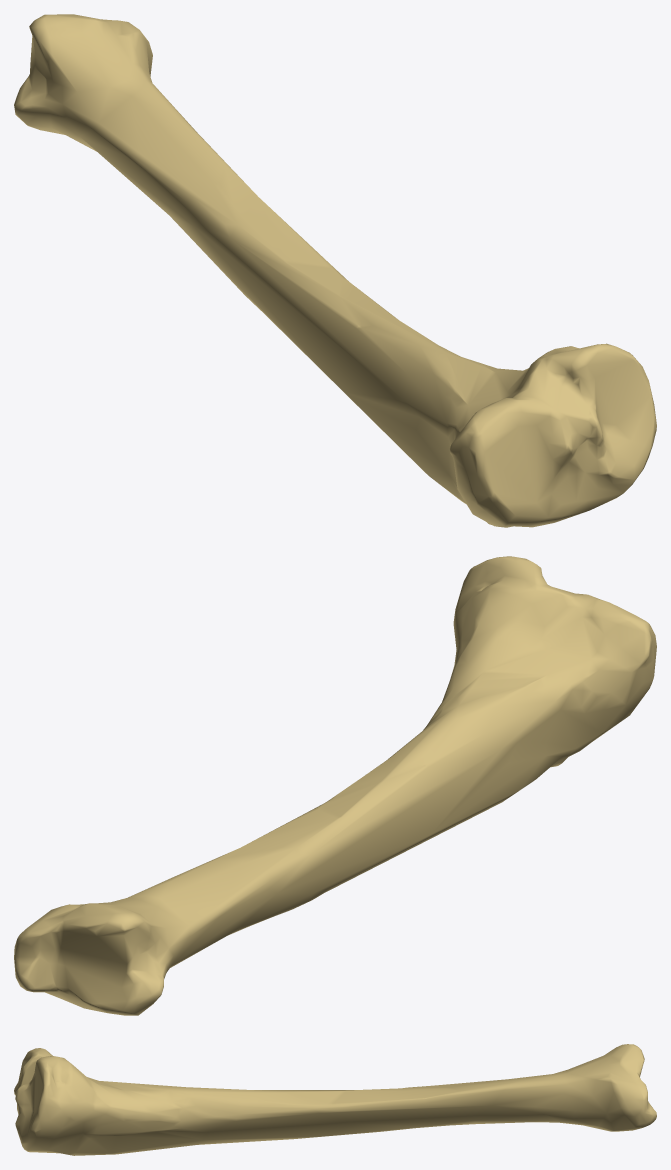
3 renders of one model, top to bottom at view 1: azimuth 30°, elevation 25°; view 2: azimuth 150°, elevation 25°; view 3: azimuth 270°, elevation 25°, orthographic. The views are drawn at different scales.
Parts seen in each view (by area): view 1: 右侧胫骨; view 2: 右侧胫骨; view 3: 右侧胫骨.
Boxes of the visible parts, x1,y1,x2,y2 form: 右侧胫骨: [14, 14, 656, 527]; 右侧胫骨: [14, 556, 656, 1015]; 右侧胫骨: [14, 1044, 656, 1155].
Size of the model in its own units: 0.1156 by 0.1002 by 0.5274.
